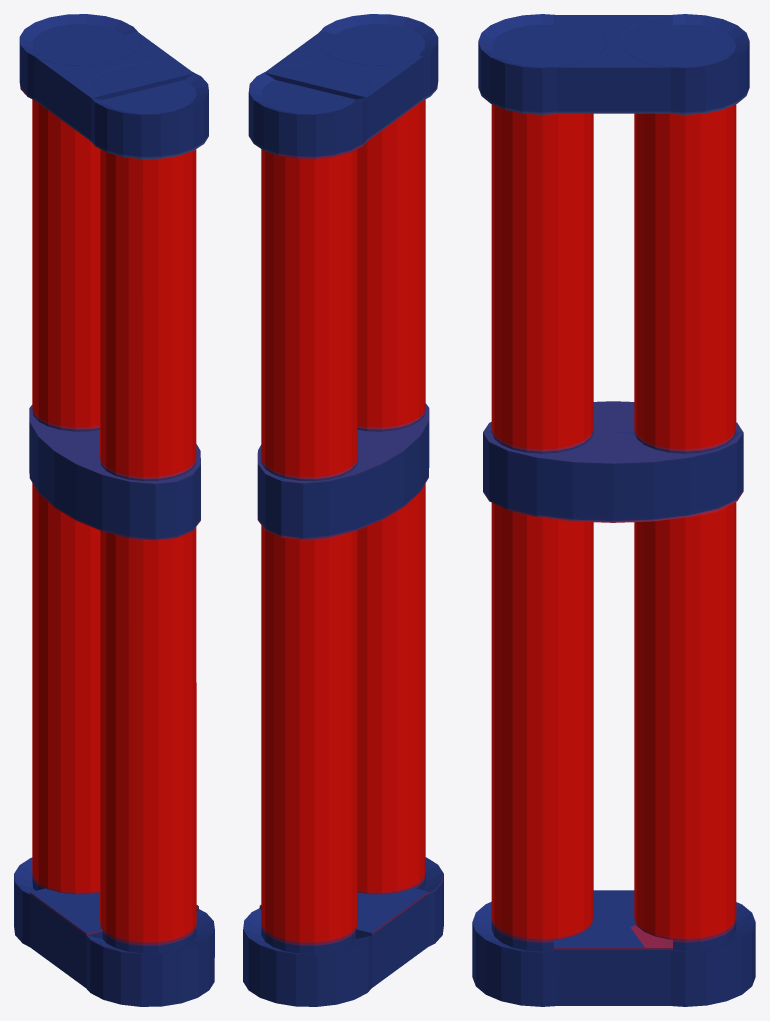
The model's file is Lab Buizen model 3.fbx.
3 views of the same model, side by side, from view 1: azimuth 30°, elevation 25°; view 2: azimuth 150°, elevation 25°; view 3: azimuth 270°, elevation 25° (orthographic). The views are drawn at different scales.
Parts seen in each view (by area): view 1: pCylinder9; view 2: pCylinder9; view 3: pCylinder9.
Part boxes in pixels (x1,y1,x2,y2): pCylinder9: [14, 14, 214, 1006]; pCylinder9: [243, 14, 443, 1006]; pCylinder9: [472, 14, 755, 1006].
Size of the model in its own units: 28.97 by 203 by 55.58.
Materials: 1 (1 with a texture image).
